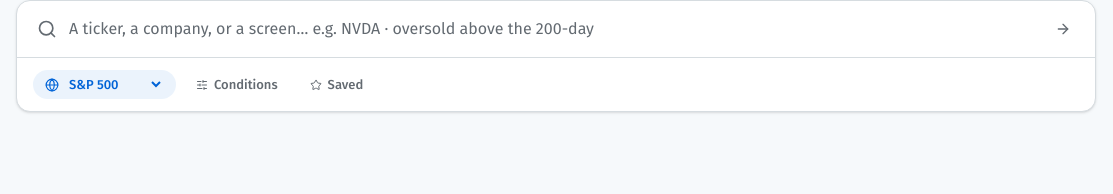
SmartSearchBox mixed queries + controls › tells an anonymous visitor to sign in rather than showing an empty list
Click the button with test id "smart-search-saved" at (336, 85), box [298,68,375,101]
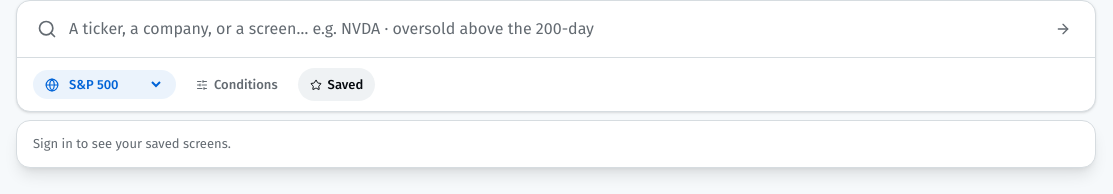
Result: the element with test id "smart-search-saved-panel" shows "Sign in to see your saved screens" at [33,136,231,151]
